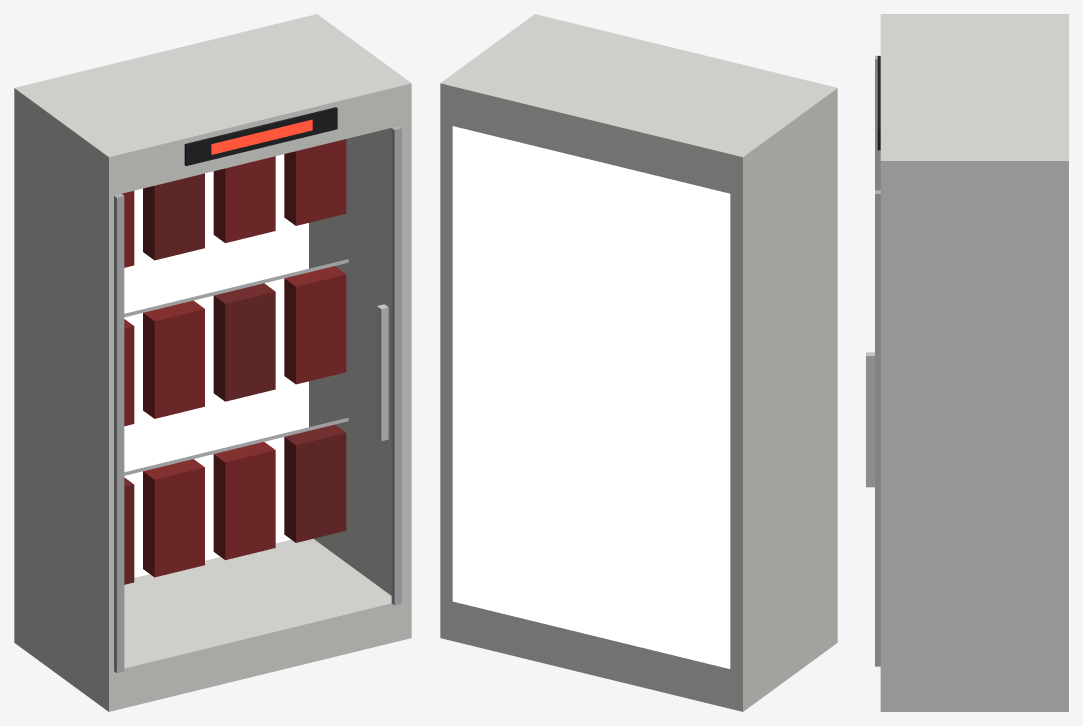
Rendered from blood_fridge.glb.
3 renders of one model, left to right at view 1: azimuth 30°, elevation 25°; view 2: azimuth 150°, elevation 25°; view 3: azimuth 270°, elevation 25°, orthographic.
Visible parts, largest first — view 1: blood_fridge; view 2: blood_fridge; view 3: blood_fridge.
Part boxes in pixels (box(x1,y1,x2,y2)): blood_fridge: box(14, 14, 411, 711); blood_fridge: box(440, 14, 837, 711); blood_fridge: box(866, 14, 1068, 711).
Bounding box in the file's own units: 1.2 × 2.1 × 0.7.
Materials: 1 (1 with a texture image).
